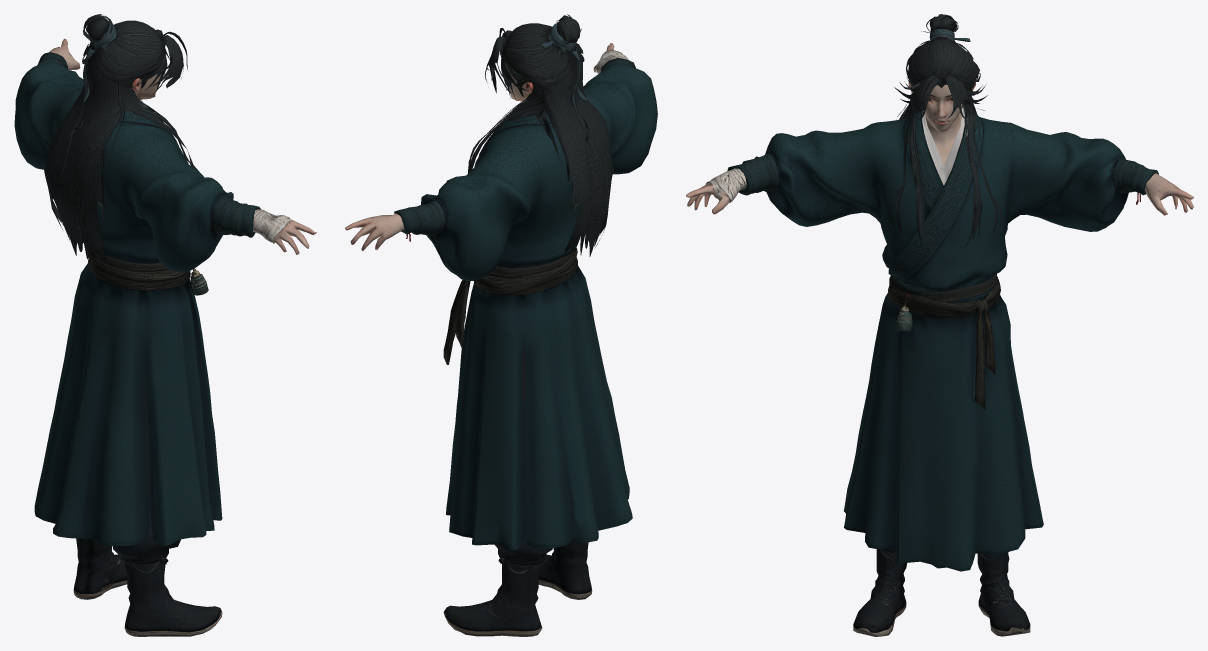
File: hero_upload.fbx
3 views of the same model, side by side, from view 1: azimuth 30°, elevation 25°; view 2: azimuth 150°, elevation 25°; view 3: azimuth 270°, elevation 25° (orthographic). The views are drawn at different scales.
Visible parts, largest first — view 1: HeroRigReady; view 2: HeroRigReady; view 3: HeroRigReady.
Boxes of the visible parts, x1=… form: HeroRigReady: x1=14, y1=14, x2=316, y2=636; HeroRigReady: x1=345, y1=14, x2=657, y2=636; HeroRigReady: x1=686, y1=14, x2=1193, y2=636.
Bounding box in the file's own units: 49.07 × 172 × 134.
